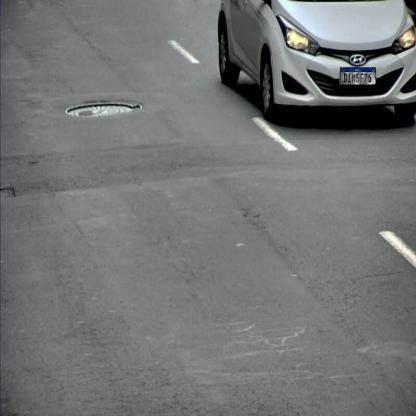PlacaM: (340, 68, 376, 86)
